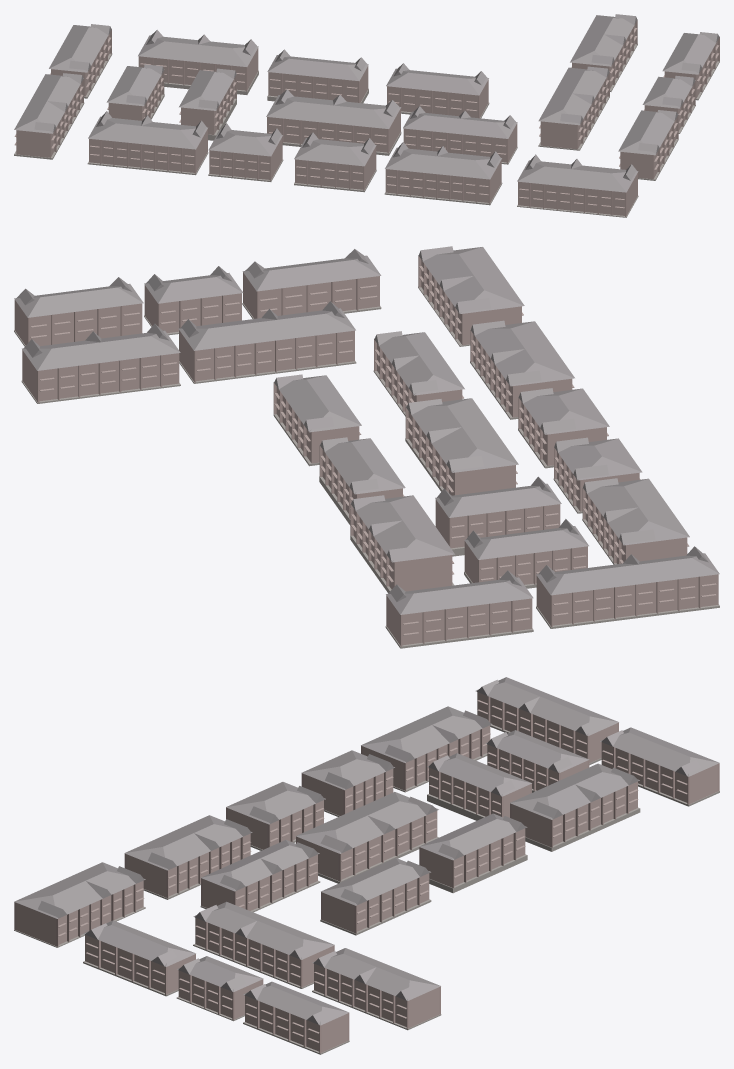
Rendered from pier-house-townhome-reference.glb.
The picture shows the model from 3 angles, top to bottom: view 1: azimuth 30°, elevation 25°; view 2: azimuth 150°, elevation 25°; view 3: azimuth 270°, elevation 25°; orthographic projection. The views are drawn at different scales.
Parts seen in each view (by area): view 1: pier-house-12-pitched-roof, pier-house-06-three-storey-body, pier-house-10-three-storey-body, pier-house-07-three-storey-body, pier-house-10-pitched-roof, pier-house-06-pitched-roof, pier-house-12-three-storey-body, pier-house-17-pitched-roof, pier-house-07-pitched-roof, pier-house-05-pitched-roof, pier-house-11-three-storey-body, pier-house-19-pitched-roof (+26 smaller); view 2: pier-house-19-three-storey-body, pier-house-05-three-storey-body, pier-house-04-three-storey-body, pier-house-12-pitched-roof, pier-house-18-three-storey-body, pier-house-05-pitched-roof, pier-house-19-pitched-roof, pier-house-10-pitched-roof, pier-house-06-pitched-roof, pier-house-17-pitched-roof, pier-house-07-pitched-roof, pier-house-03-three-storey-body (+27 smaller); view 3: pier-house-12-pitched-roof, pier-house-06-three-storey-body, pier-house-04-three-storey-body, pier-house-10-pitched-roof, pier-house-12-three-storey-body, pier-house-06-pitched-roof, pier-house-05-three-storey-body, pier-house-17-three-storey-body, pier-house-07-pitched-roof, pier-house-17-pitched-roof, pier-house-05-pitched-roof, pier-house-19-three-storey-body (+28 smaller).
Boxes of the visible parts, x1,y1,x2,y2 form: pier-house-12-pitched-roof: [266, 95, 401, 128]; pier-house-06-three-storey-body: [518, 173, 637, 215]; pier-house-10-three-storey-body: [89, 130, 207, 172]; pier-house-07-three-storey-body: [385, 160, 501, 202]; pier-house-10-pitched-roof: [88, 116, 207, 149]; pier-house-06-pitched-roof: [517, 160, 638, 192]; pier-house-12-three-storey-body: [267, 109, 400, 152]; pier-house-17-pitched-roof: [138, 35, 258, 66]; pier-house-07-pitched-roof: [385, 147, 501, 179]; pier-house-05-pitched-roof: [538, 67, 609, 125]; pier-house-11-three-storey-body: [403, 124, 516, 162]; pier-house-19-pitched-roof: [14, 74, 83, 133]; pier-house-19-three-storey-body: [537, 574, 718, 625]; pier-house-05-three-storey-body: [179, 330, 354, 381]; pier-house-04-three-storey-body: [23, 351, 179, 401]; pier-house-12-pitched-roof: [406, 398, 518, 472]; pier-house-18-three-storey-body: [387, 597, 532, 645]; pier-house-05-pitched-roof: [178, 308, 355, 350]; pier-house-19-pitched-roof: [536, 553, 719, 595]; pier-house-10-pitched-roof: [582, 478, 689, 545]; pier-house-06-pitched-roof: [418, 247, 524, 313]; pier-house-17-pitched-roof: [350, 495, 454, 562]; pier-house-07-pitched-roof: [470, 321, 574, 386]; pier-house-03-three-storey-body: [244, 274, 379, 318]; pier-house-12-pitched-roof: [296, 792, 438, 853]; pier-house-06-three-storey-body: [16, 880, 143, 945]; pier-house-04-three-storey-body: [314, 963, 439, 1027]; pier-house-10-pitched-roof: [361, 706, 491, 762]; pier-house-12-three-storey-body: [297, 811, 437, 880]; pier-house-06-pitched-roof: [14, 862, 145, 918]; pier-house-05-three-storey-body: [195, 917, 332, 986]; pier-house-17-three-storey-body: [511, 781, 637, 846]; pier-house-07-pitched-roof: [124, 815, 252, 870]; pier-house-17-pitched-roof: [510, 763, 639, 819]; pier-house-05-pitched-roof: [193, 901, 334, 959]; pier-house-19-three-storey-body: [477, 692, 617, 762].
Size of the model in its own units: 252 by 15.27 by 216.
